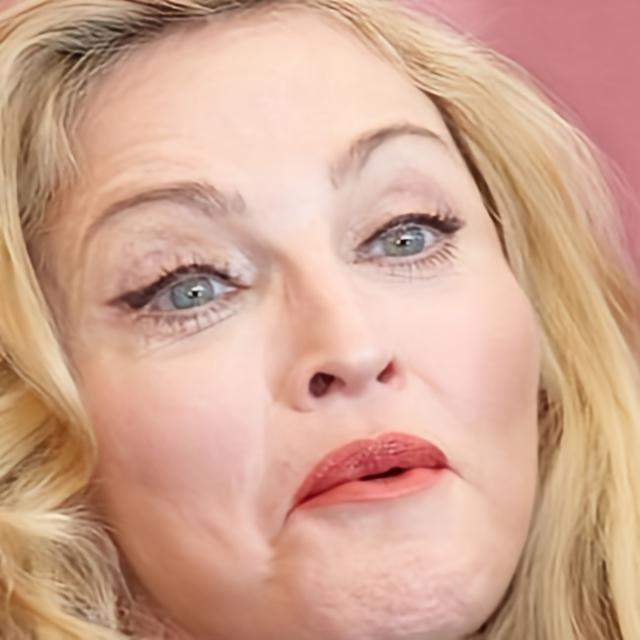surprise: (49, 0, 543, 640)
